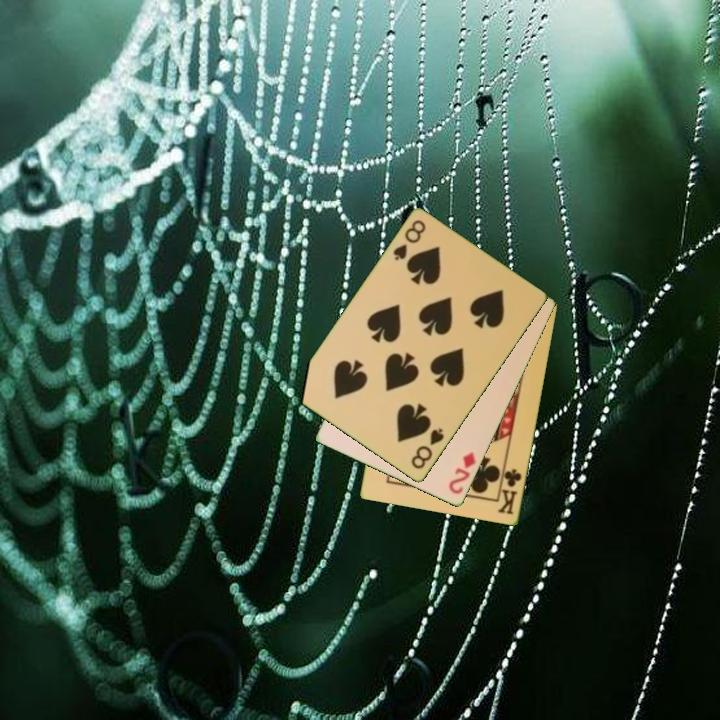2d: (445, 449, 479, 497)
8s: (389, 216, 429, 264), (408, 425, 447, 472)
Kc: (495, 461, 525, 518)
